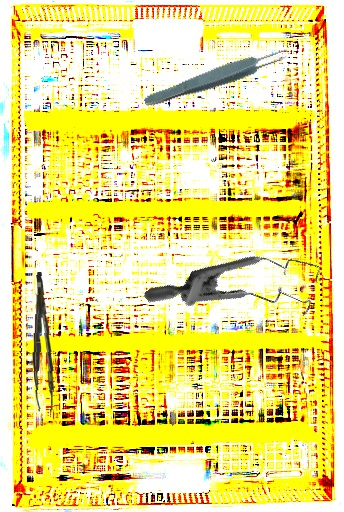Speculum: (142, 202, 338, 384)
Tissue Forceps: (141, 43, 292, 113), (29, 271, 60, 414)
